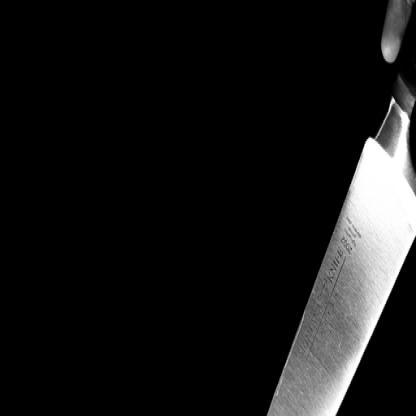knife: (210, 0, 415, 415)
